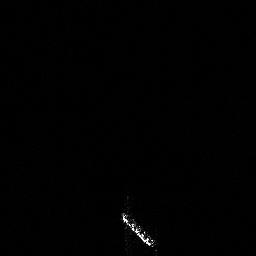ship: (117, 206, 160, 252)
